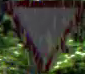Give way: (5, 1, 84, 73)
